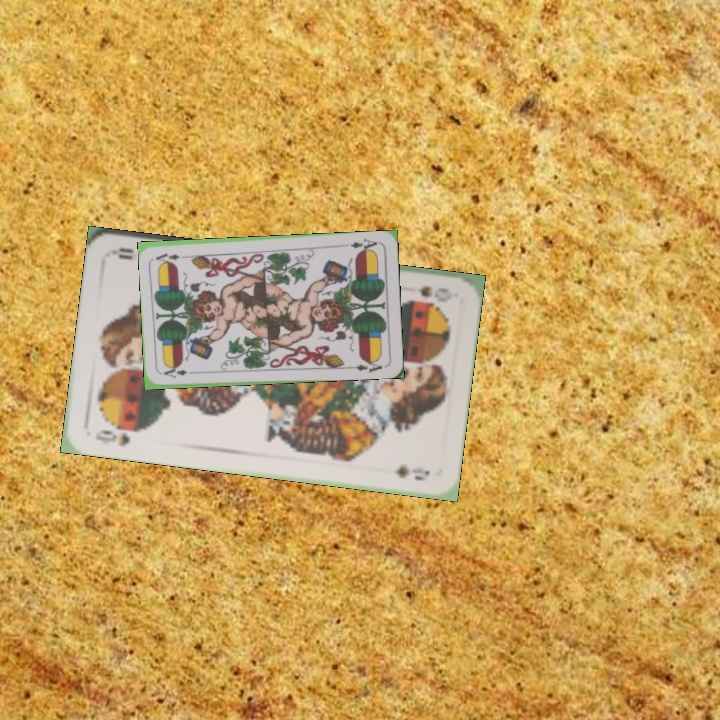EA: (341, 235, 382, 254), (160, 364, 190, 381)
SO: (91, 424, 142, 449), (414, 282, 455, 305)
